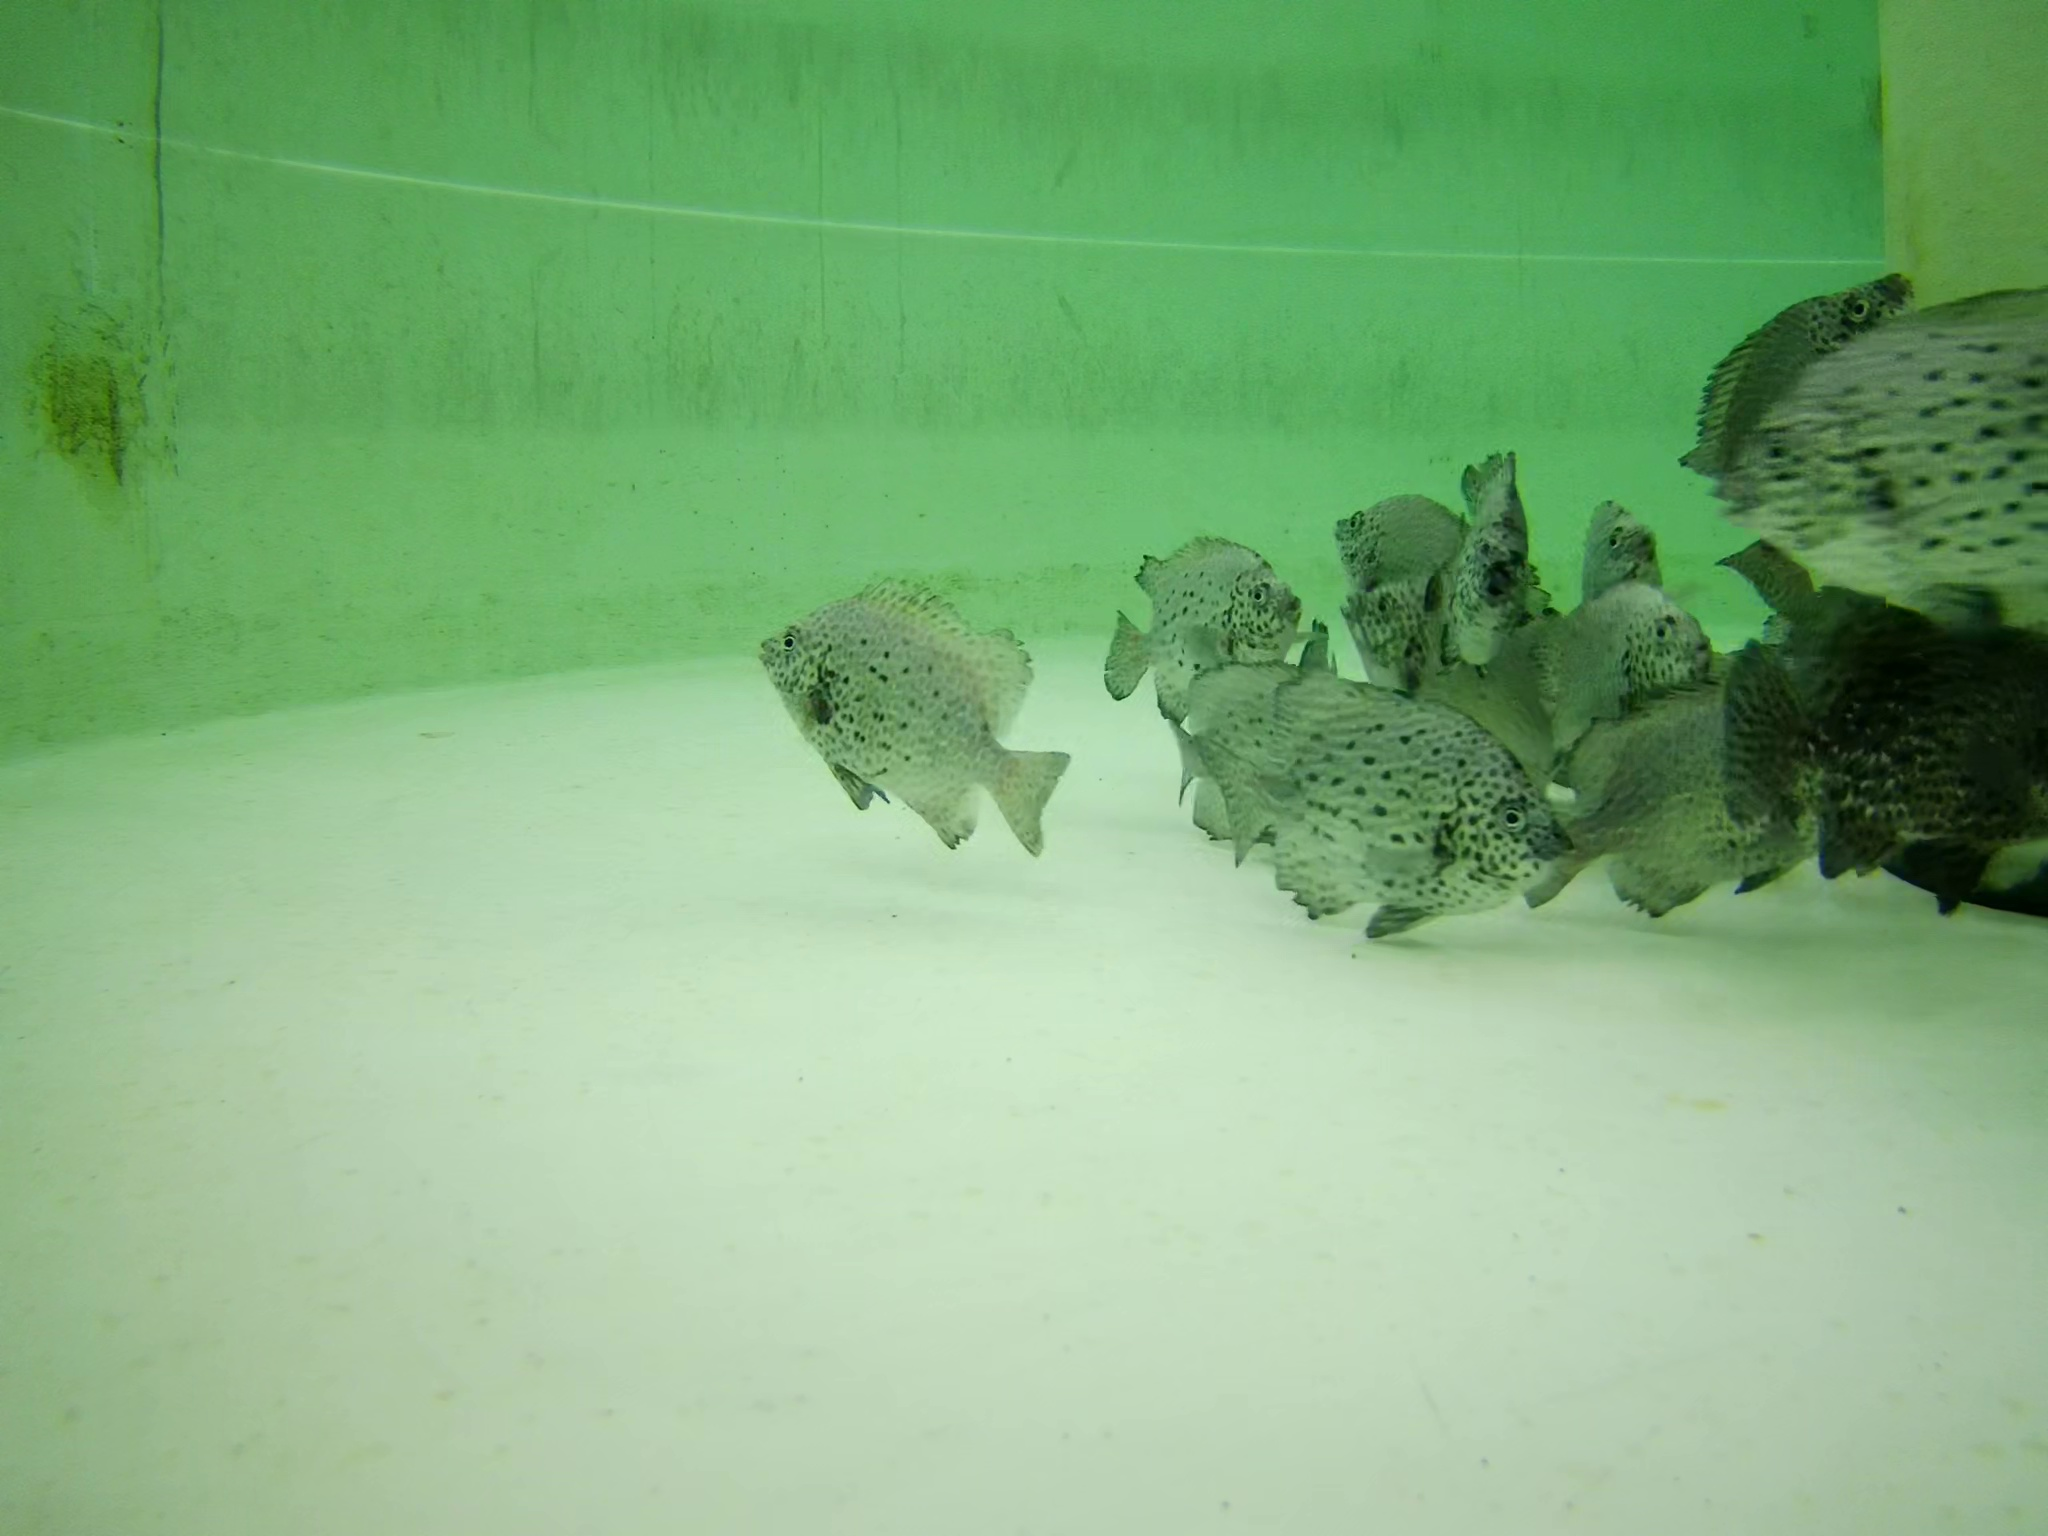fish: (753, 561, 1074, 870), (1727, 286, 2048, 594), (1201, 678, 1572, 941), (1705, 603, 1974, 879), (1542, 666, 1800, 915), (1840, 610, 2048, 881), (1684, 269, 1913, 484), (1106, 529, 1300, 726), (1151, 673, 1332, 844), (1416, 629, 1564, 794), (1530, 595, 1711, 710), (1458, 452, 1537, 645), (1324, 499, 1485, 592), (1580, 495, 1669, 599)
